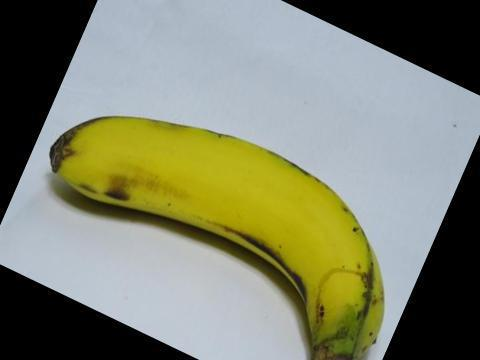freshripe: (39, 108, 390, 359)
